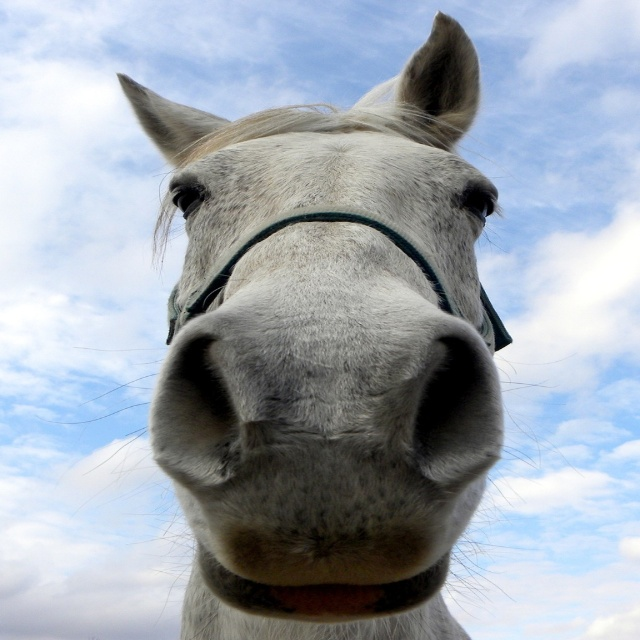Horse: (34, 10, 585, 640)
